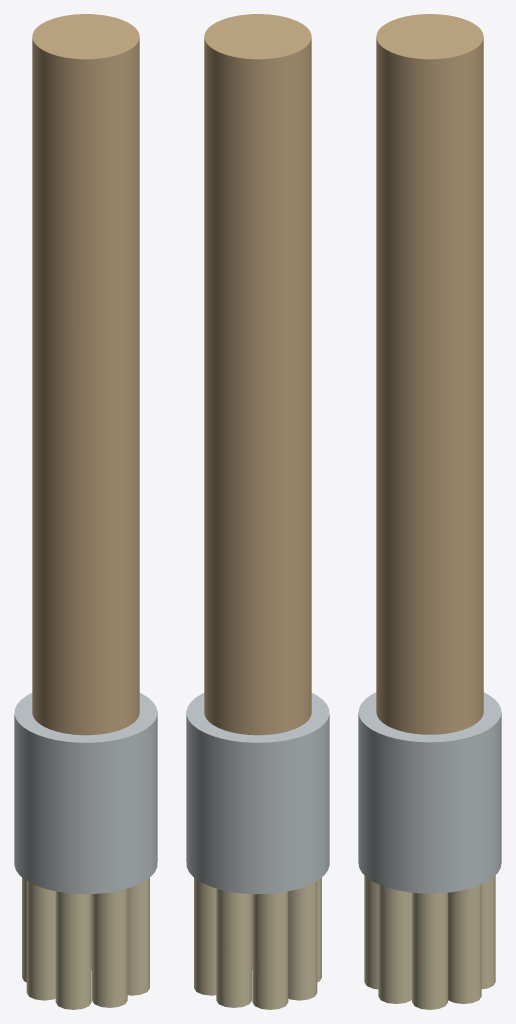
The model's file is bookbinding-and-paper-mill-glue-brush-c56b93fe__30578.glb.
3 views of the same model, side by side, from view 1: azimuth 30°, elevation 25°; view 2: azimuth 150°, elevation 25°; view 3: azimuth 270°, elevation 25° (orthographic).
Parts seen in each view (by area): view 1: glue-brush; view 2: glue-brush; view 3: glue-brush.
Boxes of the visible parts, bbox=[...] form: glue-brush: bbox=[14, 14, 157, 1009]; glue-brush: bbox=[186, 14, 329, 1009]; glue-brush: bbox=[358, 14, 501, 1009].
Bounding box in the file's own units: 0.024 × 0.175 × 0.024.
